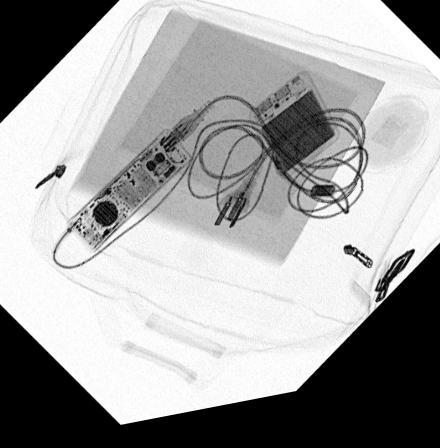Powerbank: (249, 83, 342, 191)
